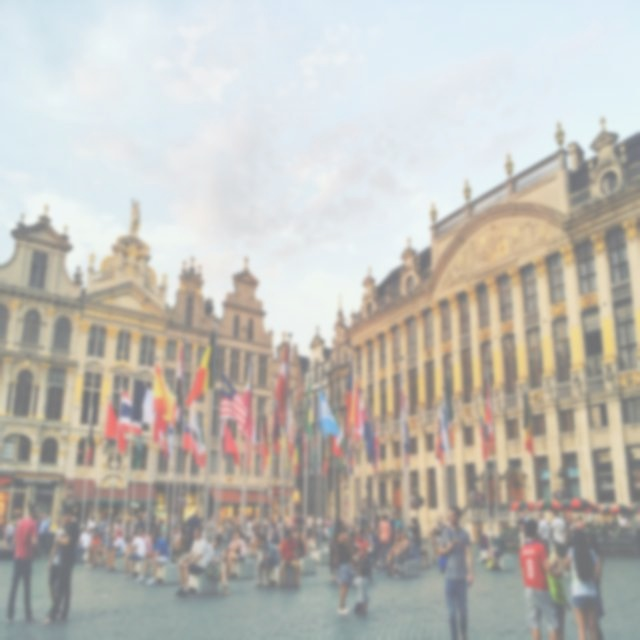pessoa: (440, 218, 530, 290), (438, 504, 476, 640), (41, 504, 82, 628), (519, 519, 561, 639), (6, 504, 42, 623), (564, 528, 599, 640), (255, 508, 337, 548), (173, 526, 208, 598), (46, 512, 69, 618), (546, 551, 572, 639), (584, 531, 605, 639), (332, 518, 354, 616), (135, 532, 170, 586), (204, 532, 232, 596), (278, 528, 303, 590), (549, 510, 569, 578), (120, 530, 148, 578), (256, 537, 280, 588), (182, 509, 203, 563), (354, 528, 374, 582), (102, 532, 128, 573), (226, 528, 247, 578), (218, 512, 256, 538), (383, 530, 403, 576), (485, 531, 507, 572), (188, 526, 206, 576), (352, 564, 369, 616), (328, 516, 341, 582), (393, 530, 411, 577), (225, 530, 243, 576), (536, 510, 552, 560), (363, 526, 380, 572), (92, 532, 112, 568), (36, 512, 51, 560), (379, 514, 392, 569), (409, 516, 422, 570), (157, 511, 182, 537), (412, 532, 430, 568), (84, 531, 100, 568), (75, 527, 91, 563), (34, 512, 44, 561), (354, 529, 366, 567), (348, 532, 360, 565), (221, 515, 233, 548), (477, 532, 490, 562), (297, 526, 308, 558), (432, 530, 442, 565), (394, 512, 404, 545), (140, 528, 152, 555), (5, 518, 15, 550), (348, 544, 359, 573), (518, 512, 526, 550), (372, 514, 381, 547), (388, 511, 396, 548), (245, 516, 252, 552), (356, 509, 368, 529), (149, 513, 158, 538), (207, 515, 214, 546), (114, 518, 124, 539), (88, 526, 98, 547), (139, 512, 150, 530), (104, 518, 116, 534), (618, 514, 628, 532), (98, 516, 107, 536), (584, 518, 602, 528), (573, 514, 584, 530), (200, 516, 212, 530), (522, 508, 531, 524), (88, 515, 96, 532), (433, 527, 438, 551), (132, 514, 140, 529), (437, 515, 444, 530), (566, 520, 574, 531), (429, 530, 435, 544), (88, 527, 94, 539), (80, 520, 88, 528), (86, 514, 92, 524), (0, 514, 4, 528), (124, 528, 128, 540), (446, 516, 449, 528), (6, 520, 10, 529), (546, 520, 552, 526), (558, 514, 563, 520), (17, 514, 21, 521)
